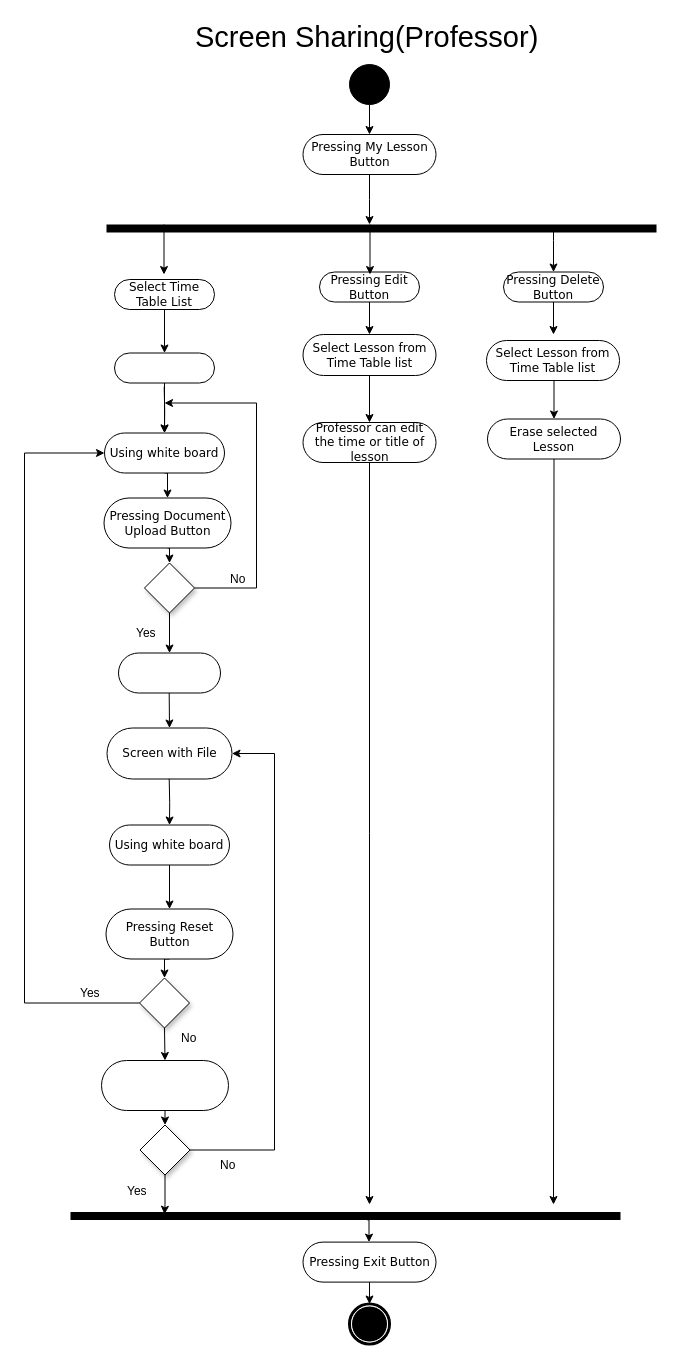
Image size: 678x1361. Some labels were removed from this diagram. The centre of each missing label's shape, as x and y in pixels:
Making Classroom: [164,367]
Pressing Close Button: [164,1085]
Select File: [169,672]
